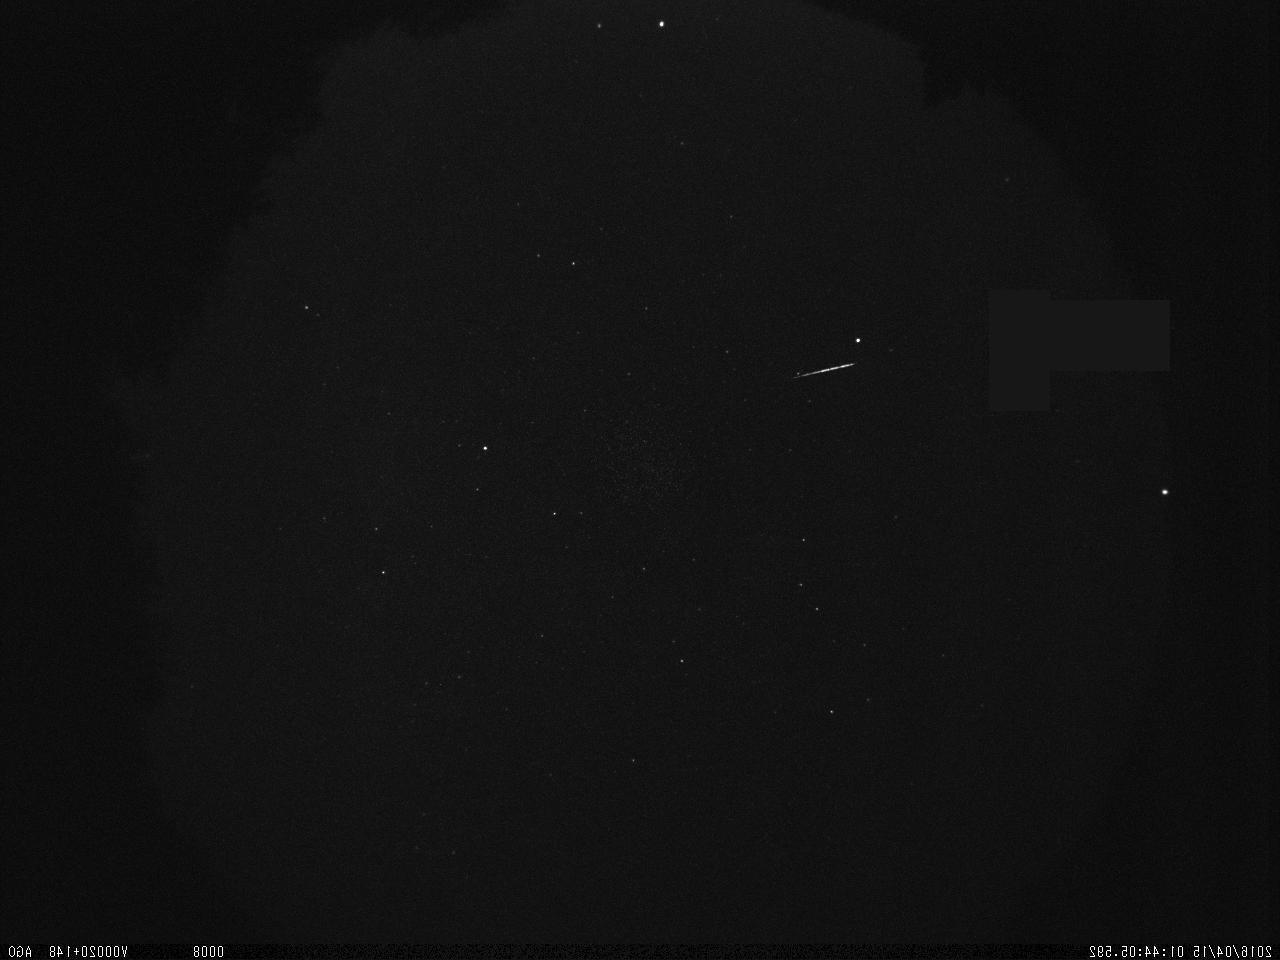meteor: (793, 357, 864, 386)
